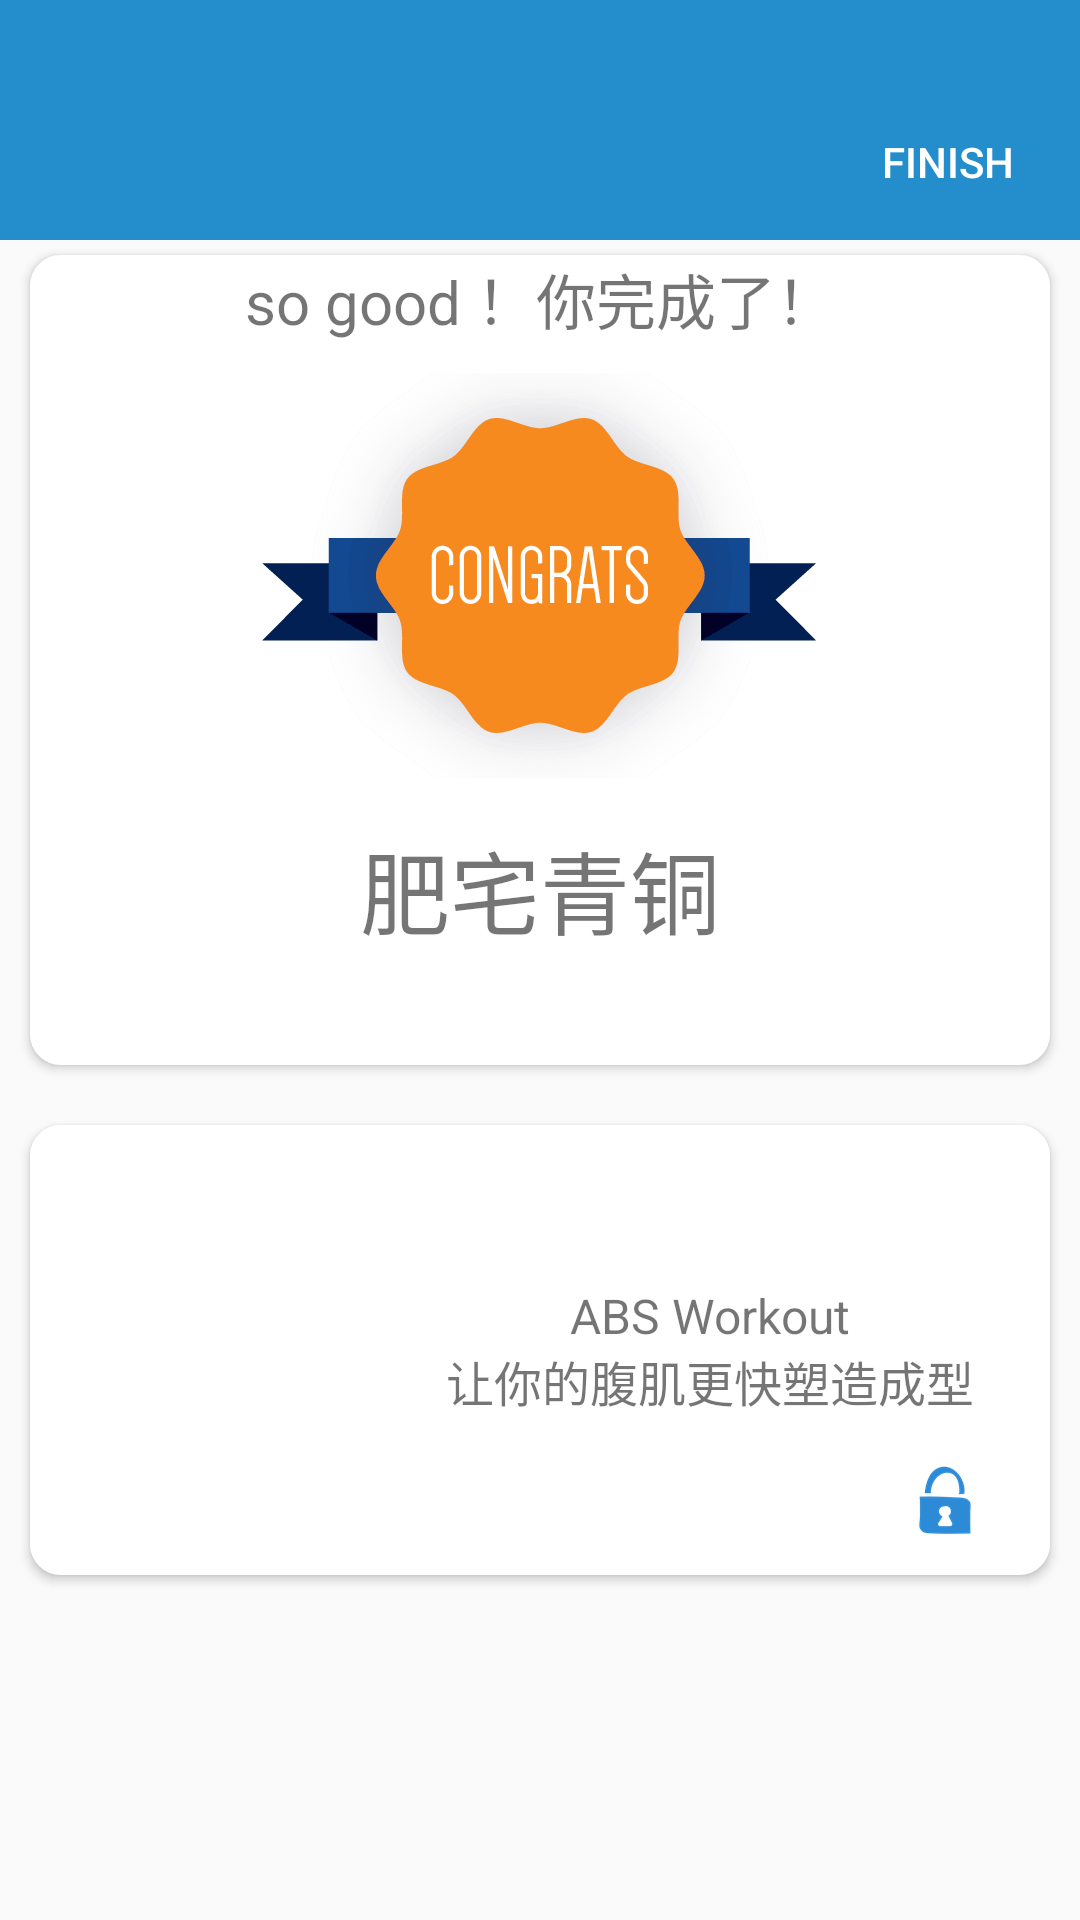

Icon bounding boxes for this 1080*1920 phone screenshot, format [x1, y1, x2, y2]:
abs locked: [919, 1466, 971, 1534]
